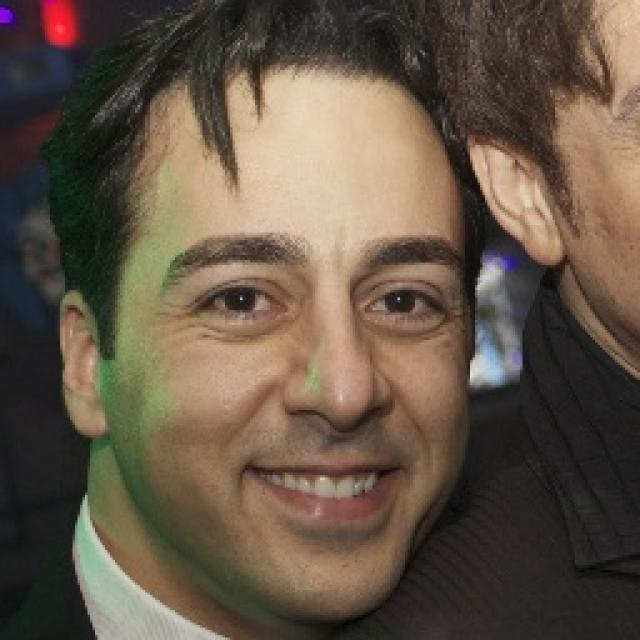earlobe: (524, 212, 566, 268), (70, 392, 110, 439)
eye: (192, 276, 290, 321), (362, 286, 444, 320)
nose: (278, 404, 406, 470)
wholeear: (464, 116, 565, 268), (57, 290, 111, 438)
